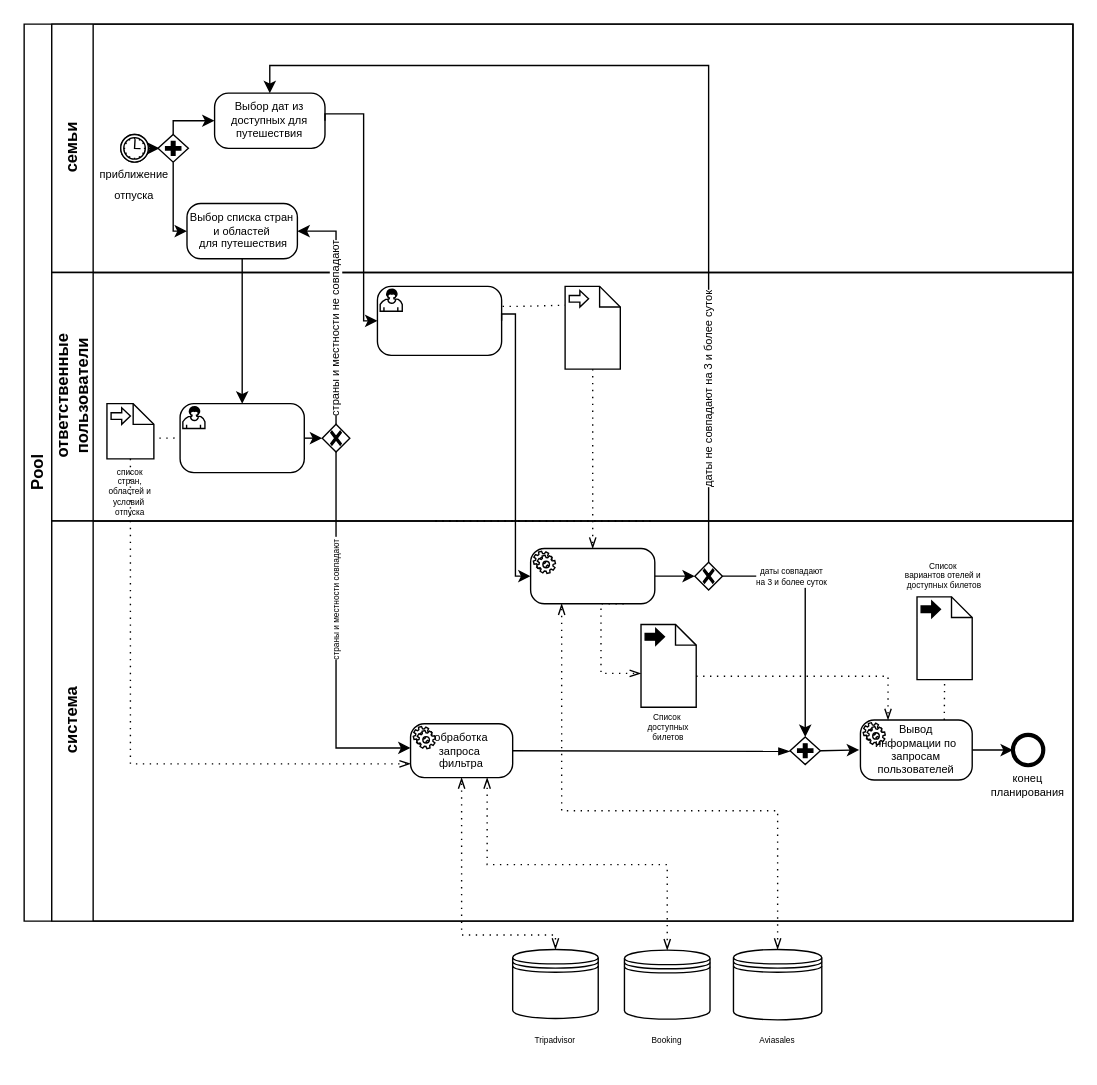
Some shapes in this 1097 by 1085 pixel diagram are drawn without their labels. The shapes that lost their labels are listed below. From the top down, each one's centre as x and y in pixels, then its label:
point (439, 320): представление дат для путешествия
point (592, 327): таймлайн в календарь
point (241, 437): обсуждение стран, областей и условий для отпуска
point (592, 575): сопоставление дат для отпуска
